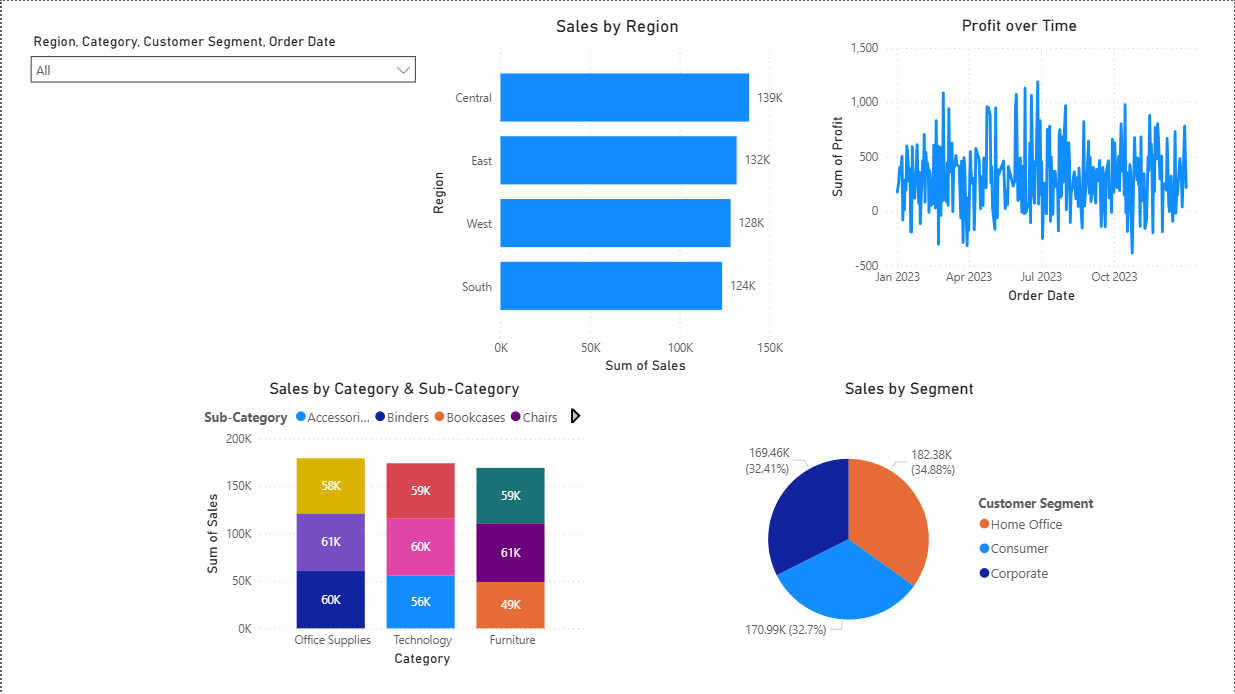

The page's visual inventory and layout, read from the dashboard file:
{"tool":"powerbi","page":{"name":"Page 1","canvas":[1280,720],"ordinal":0},"visuals":[{"type":"clusteredBarChart","title":"Sales by Region","fields":{"Y":["Sum(superstore_data.Sales)"],"Category":["superstore_data.Region"]},"box":[440,15,398.3,376.7],"z":0},{"type":"lineChart","title":"Profit over Time","fields":{"Category":["superstore_data.Order Date"],"Y":["Sum(superstore_data.Profit)"]},"box":[855,15,405,303.3],"z":1},{"type":"columnChart","title":"Sales by Category & Sub-Category","fields":{"Category":["superstore_data.Category"],"Series":["superstore_data.Sub-Category"],"Y":["Sum(superstore_data.Sales)"]},"box":[205,391.7,405,303.3],"z":2},{"type":"pieChart","title":"Sales by Segment","fields":{"Category":["superstore_data.Customer Segment"],"Y":["Sum(superstore_data.Sales)"]},"box":[740,391.7,405,315],"z":3},{"type":"slicer","fields":{"Values":["superstore_data.Region","superstore_data.Category","superstore_data.Customer Segment","superstore_data.Order Date"]},"box":[20,28.3,420,318.3],"z":4}]}

Visuals, with their boxes in screenshot pixels (x1, y1, x2, y2), scaled from the page's 1280x720 canvas onto the 1235x694 screenshot:
"Sales by Region" clusteredBarChart: l=425, t=14, r=809, b=378
"Profit over Time" lineChart: l=825, t=14, r=1216, b=307
"Sales by Category & Sub-Category" columnChart: l=198, t=378, r=589, b=670
"Sales by Segment" pieChart: l=714, t=378, r=1105, b=681
slicer - superstore_data.Region x superstore_data.Category: l=19, t=27, r=425, b=334
